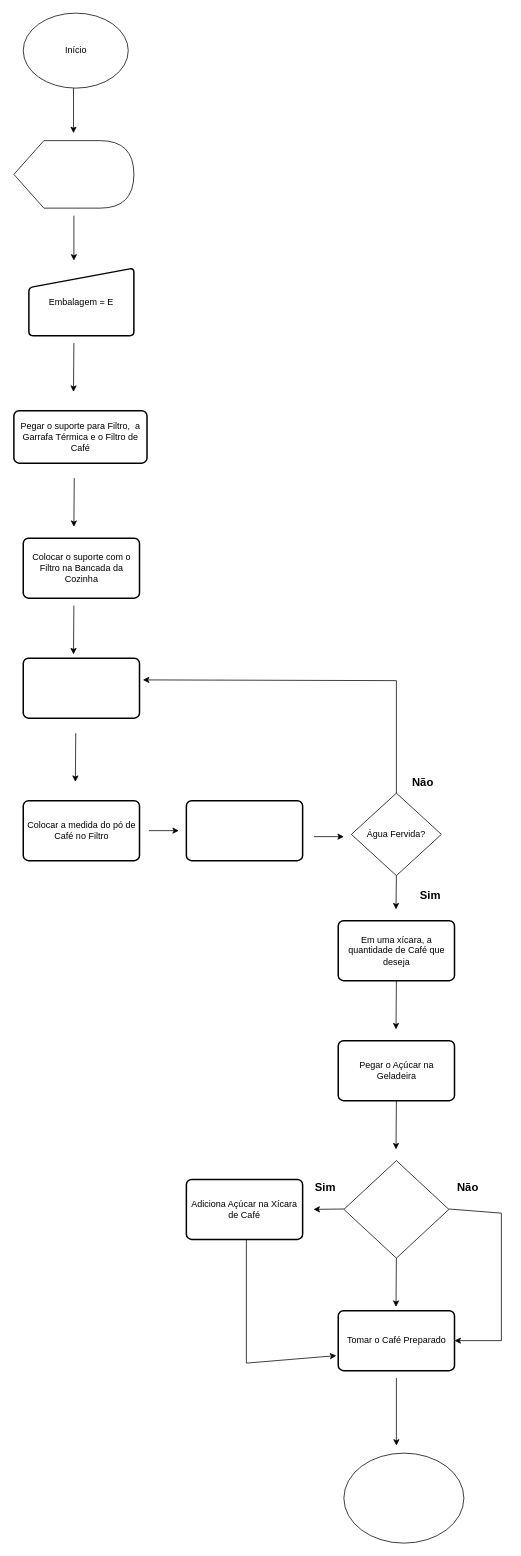
This 521x1556 diagram has some shape labels left out. Here are the shapes that lost their labels. From the top down, the centre of each, then its label:
(x=73, y=174): Mostrar o N° de Embalagens de café
(x=81, y=687): Em um Bule: colocar agua e levar ao fogo
(x=244, y=830): Verificar a Fervura da Água
(x=396, y=1209): Deseja Adicionar Açúcar?
(x=403, y=1497): Final
